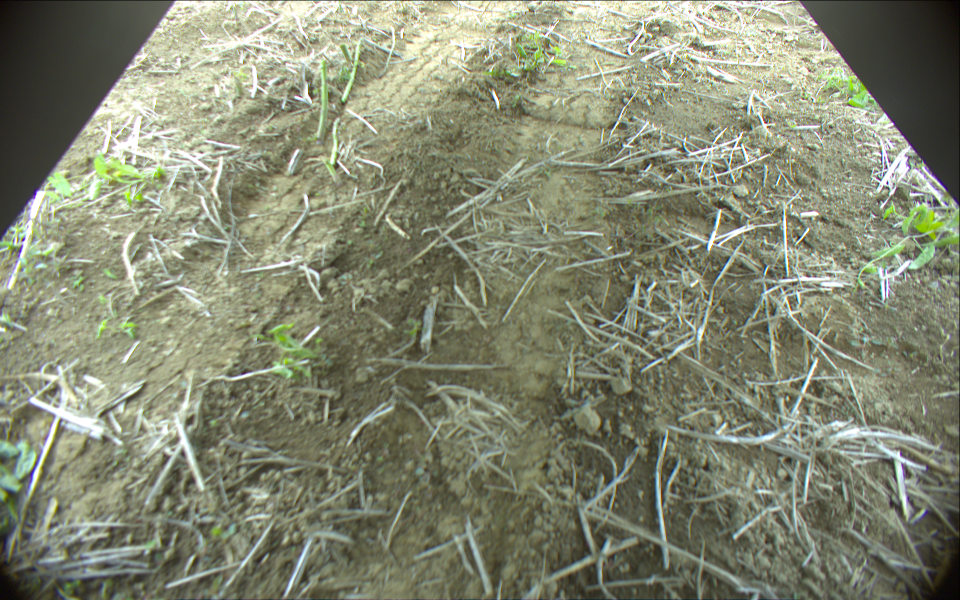aspa: (341, 39, 363, 103), (315, 61, 328, 139), (329, 117, 341, 166), (340, 45, 354, 68)
